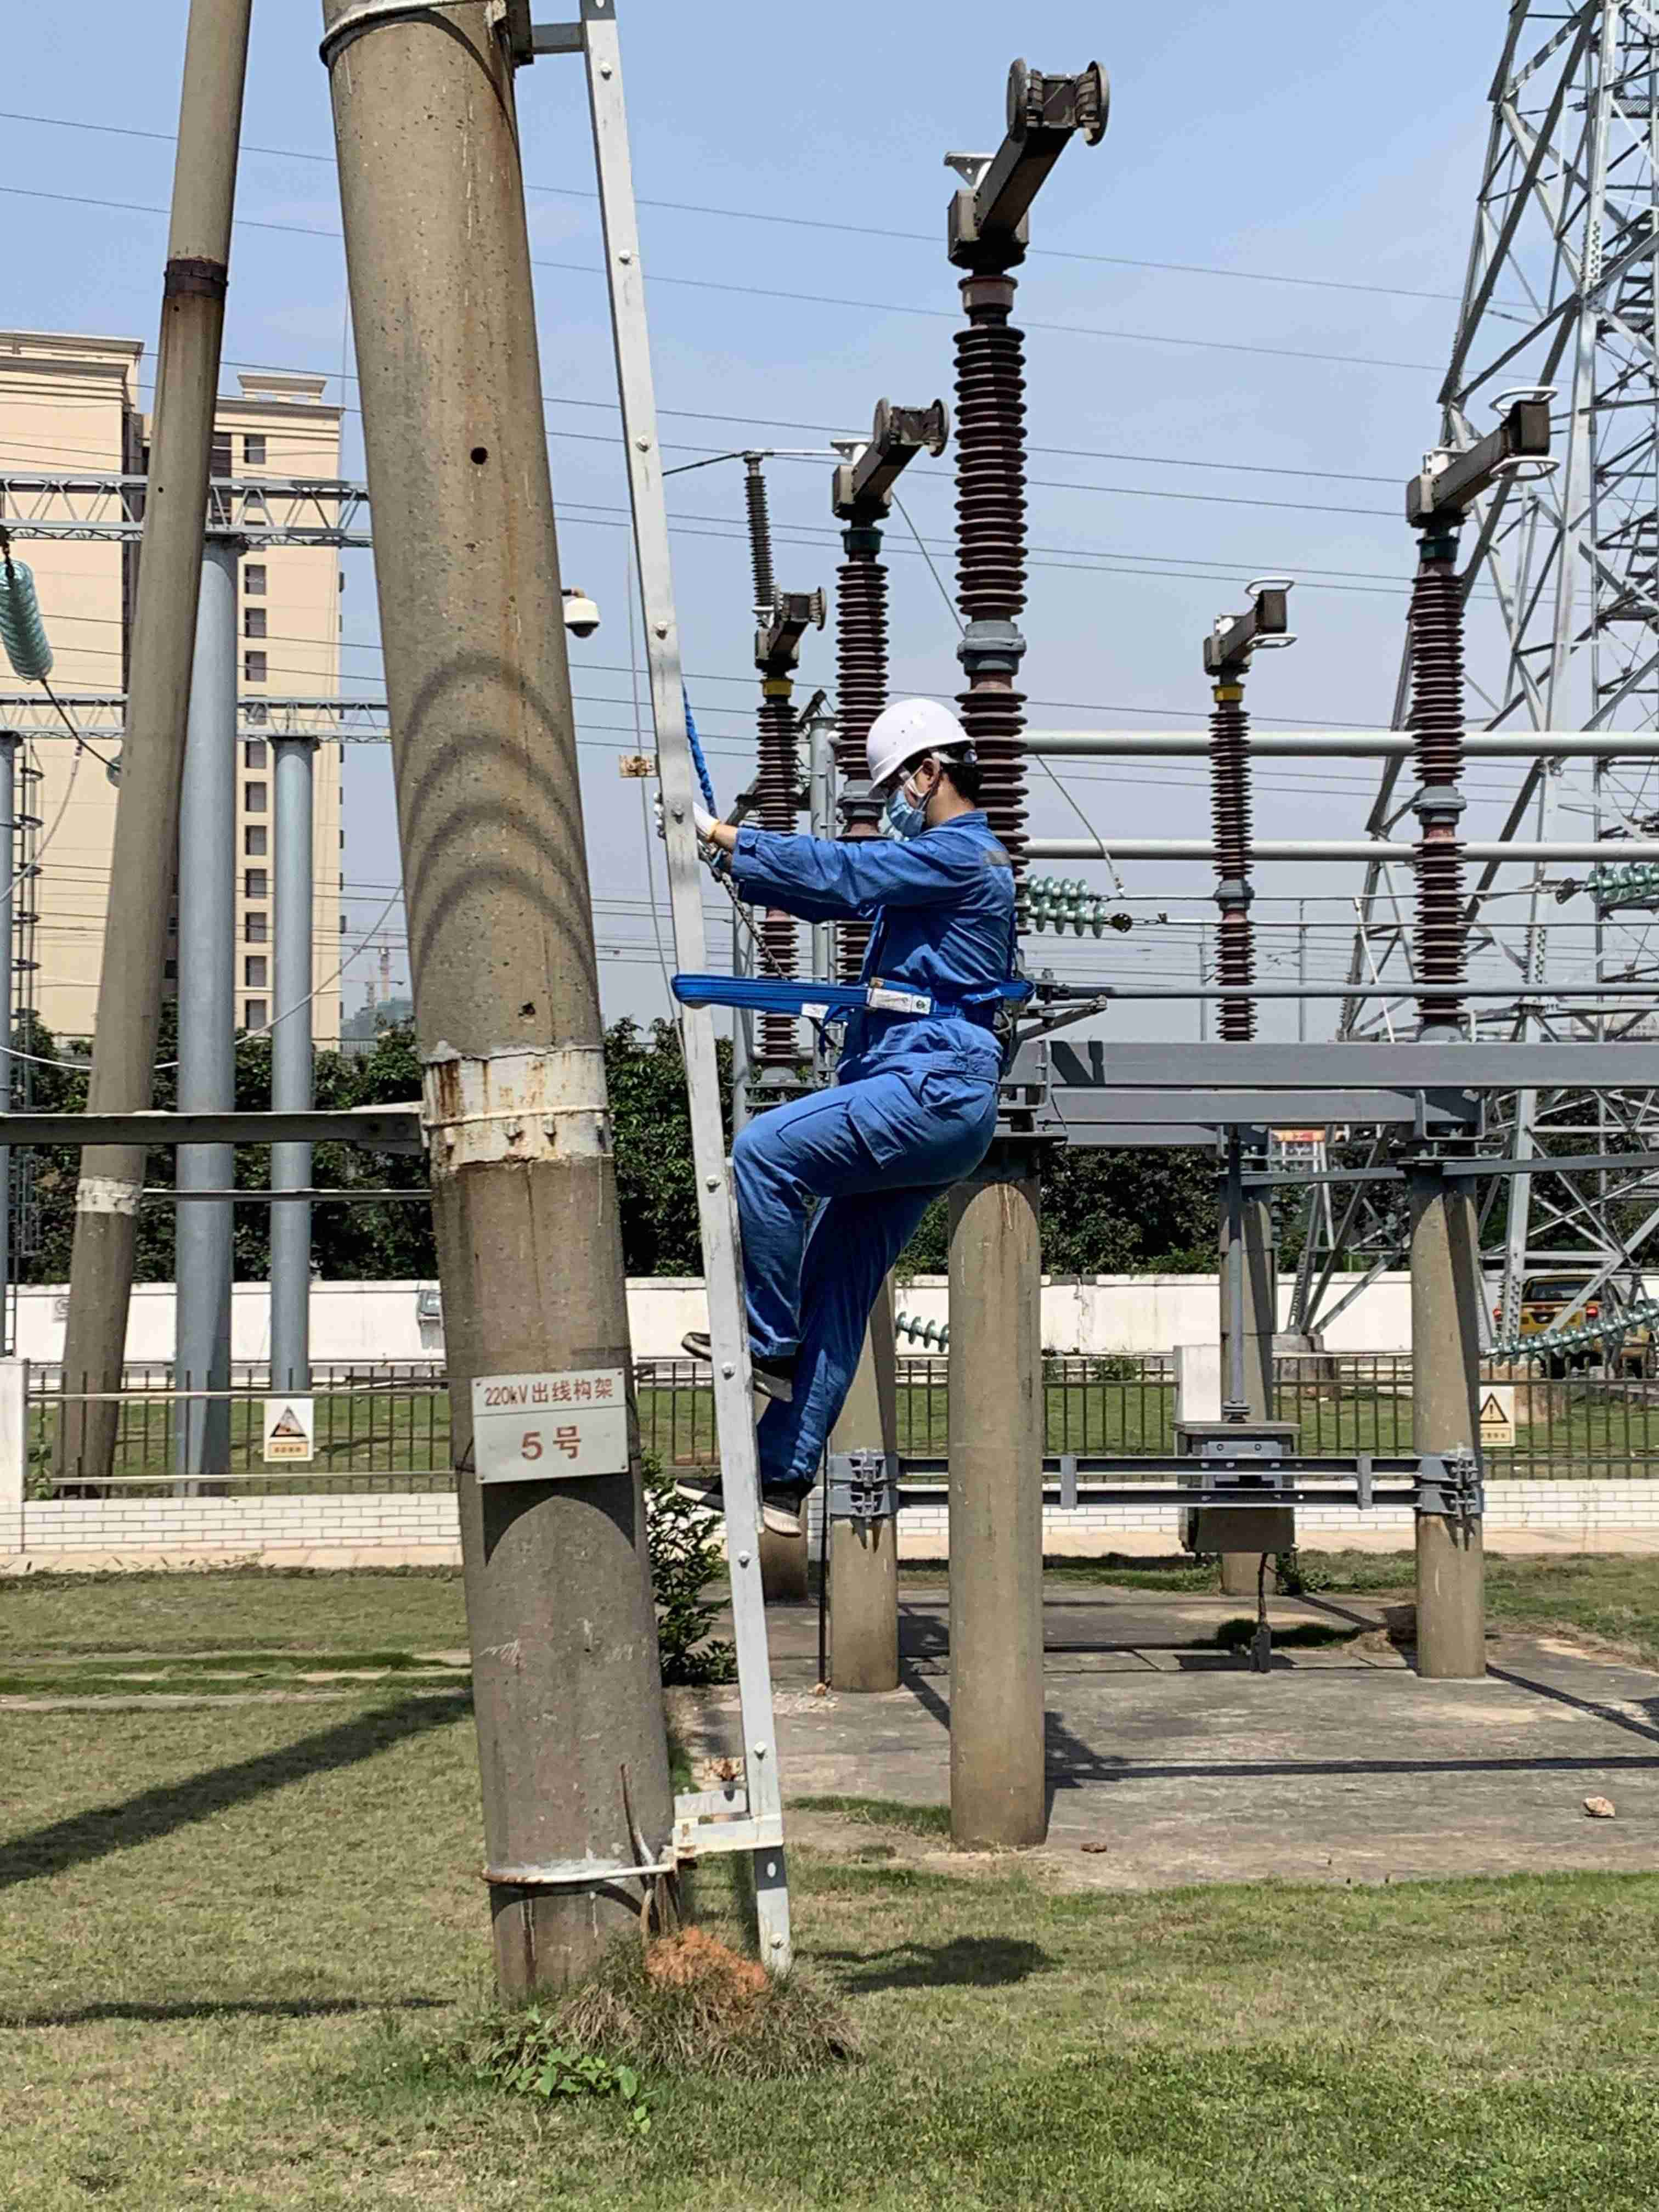downsuit: (739, 1075, 979, 1482)
upsuit: (739, 820, 1002, 1042)
